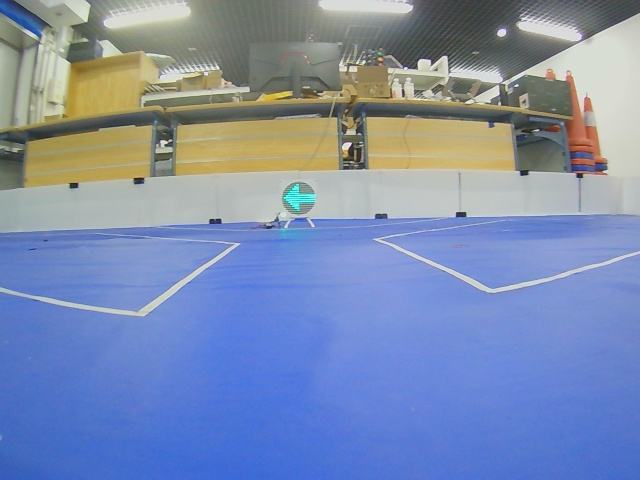left_green: (282, 181, 317, 215)
